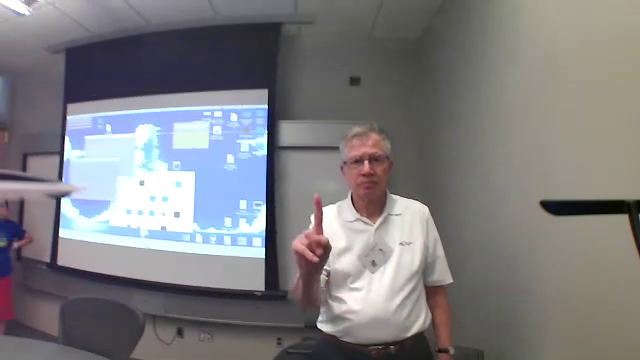up: (287, 192, 335, 274)
